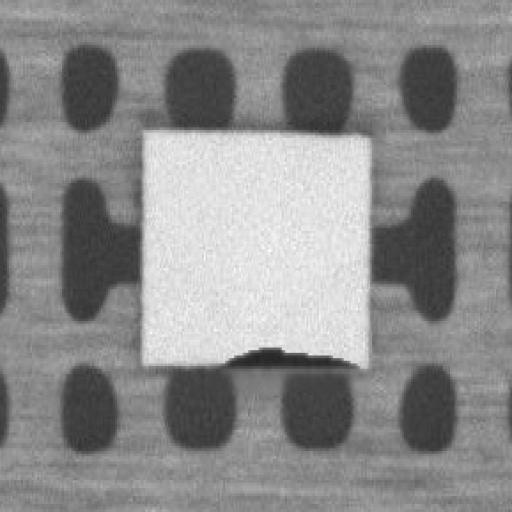DIE_BROKEN: (218, 337, 356, 366)
